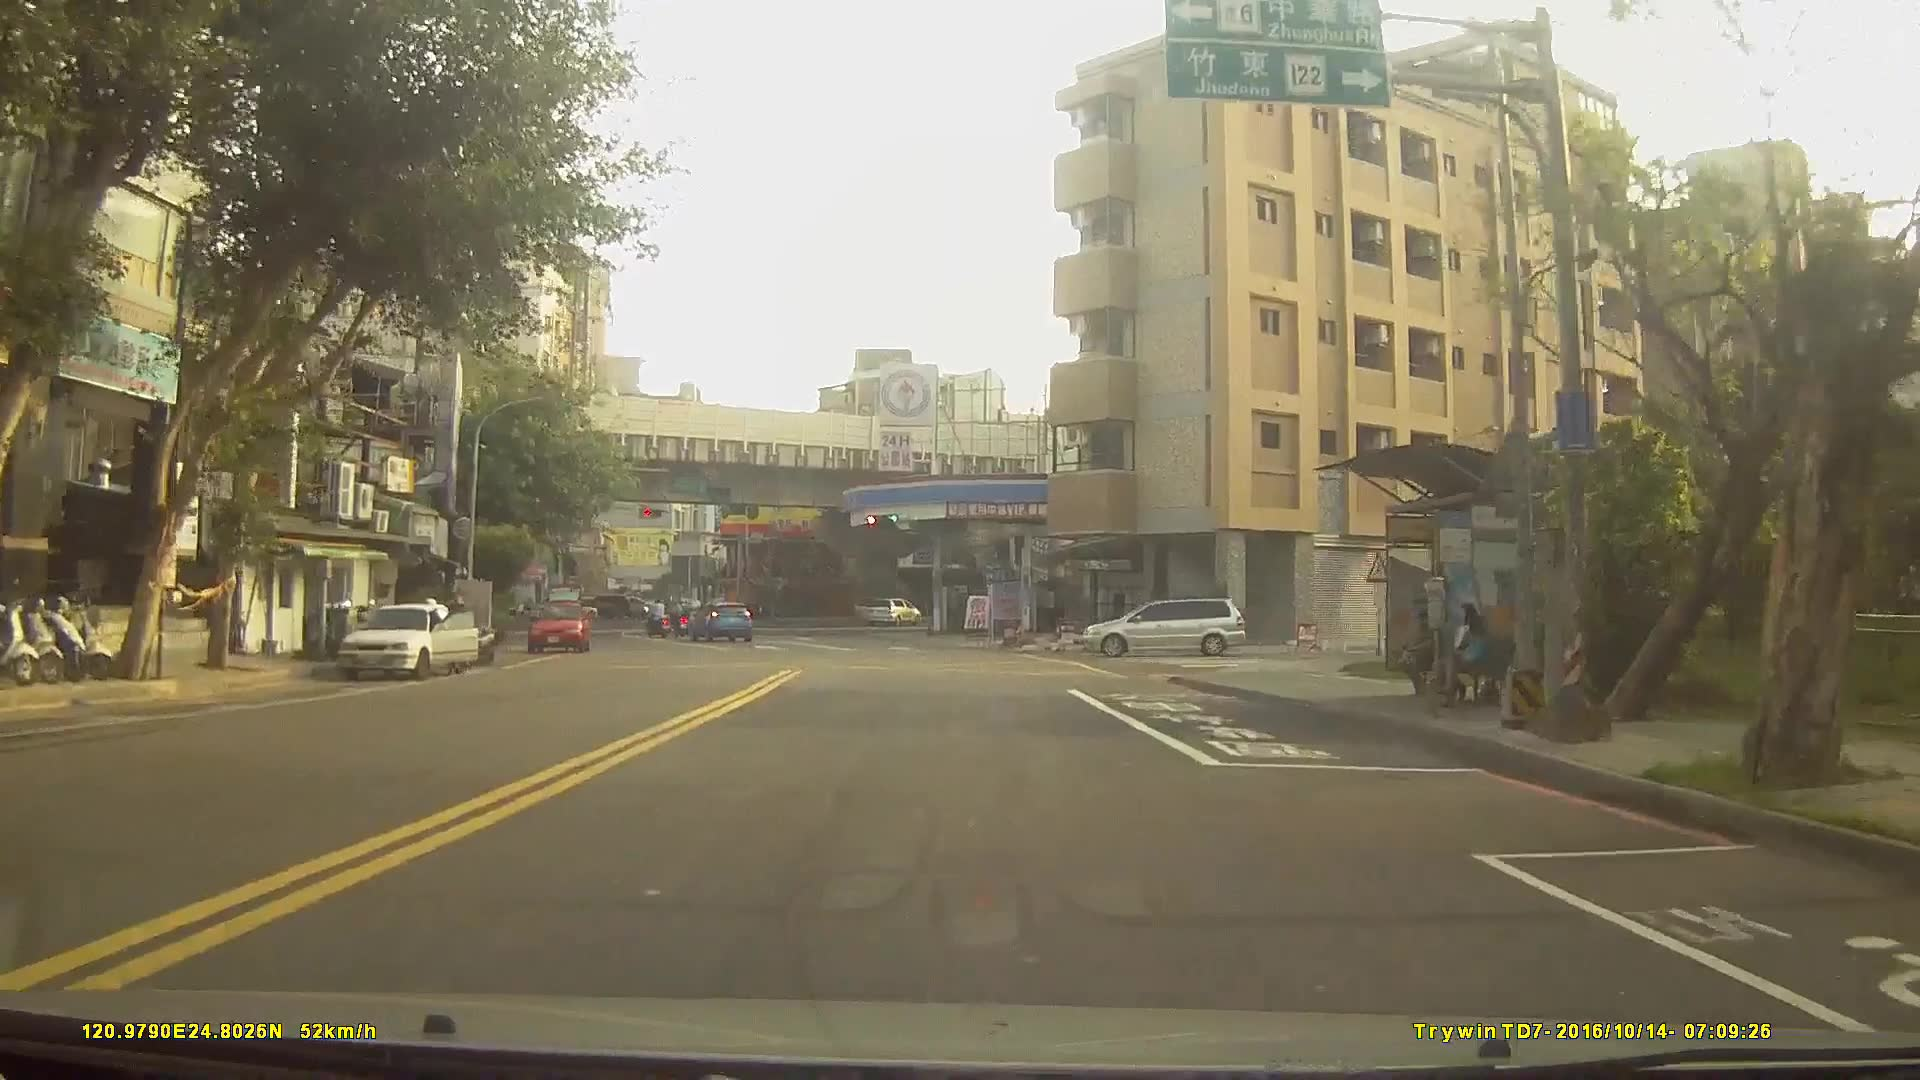pedestrian: (1450, 601, 1495, 706), (1407, 607, 1443, 700)
rider: (646, 600, 674, 644)
vehicle: (336, 601, 481, 683), (1079, 596, 1248, 656), (527, 597, 589, 652), (685, 600, 756, 644), (863, 598, 921, 627), (575, 593, 632, 623)
